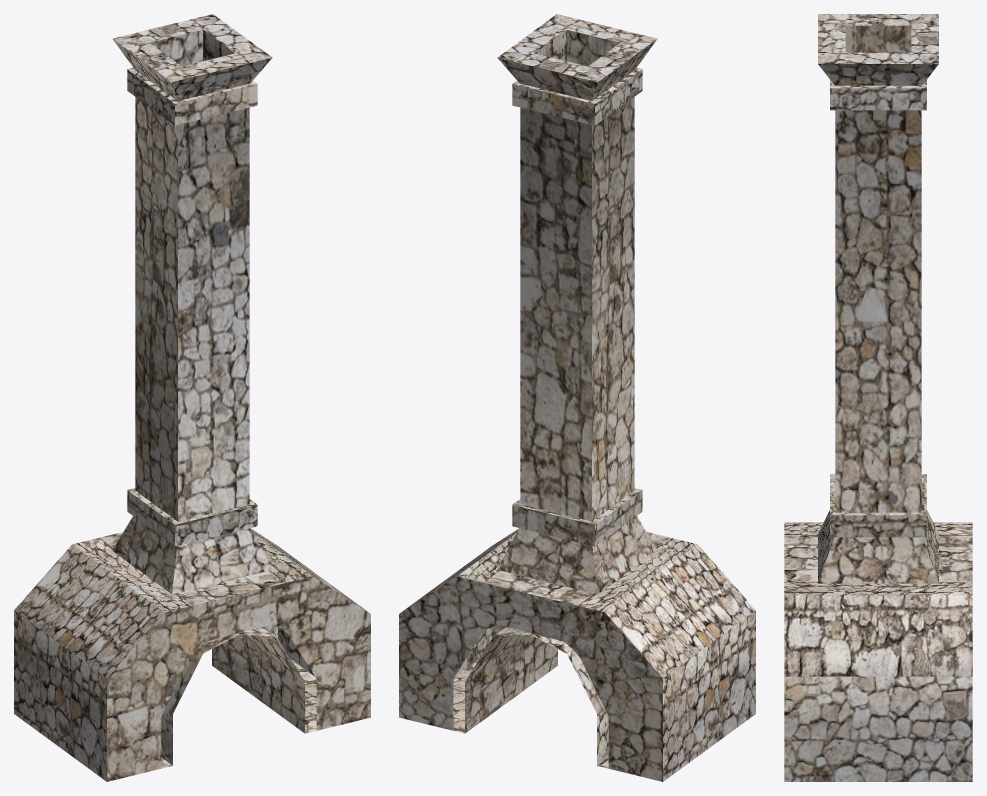
Rendered from tavern_221.gltf.
3 renders of one model, left to right at view 1: azimuth 30°, elevation 25°; view 2: azimuth 150°, elevation 25°; view 3: azimuth 270°, elevation 25°, orthographic.
Visible parts, largest first — view 1: Box123_Material #170_0.009; view 2: Box123_Material #170_0.009; view 3: Box123_Material #170_0.009.
Part boxes in pixels (x1,y1,x2,y2): Box123_Material #170_0.009: (14,14,370,781); Box123_Material #170_0.009: (399,14,755,781); Box123_Material #170_0.009: (784,14,972,781).
Bounding box in the file's own units: 36.35 × 87.86 × 22.17.
